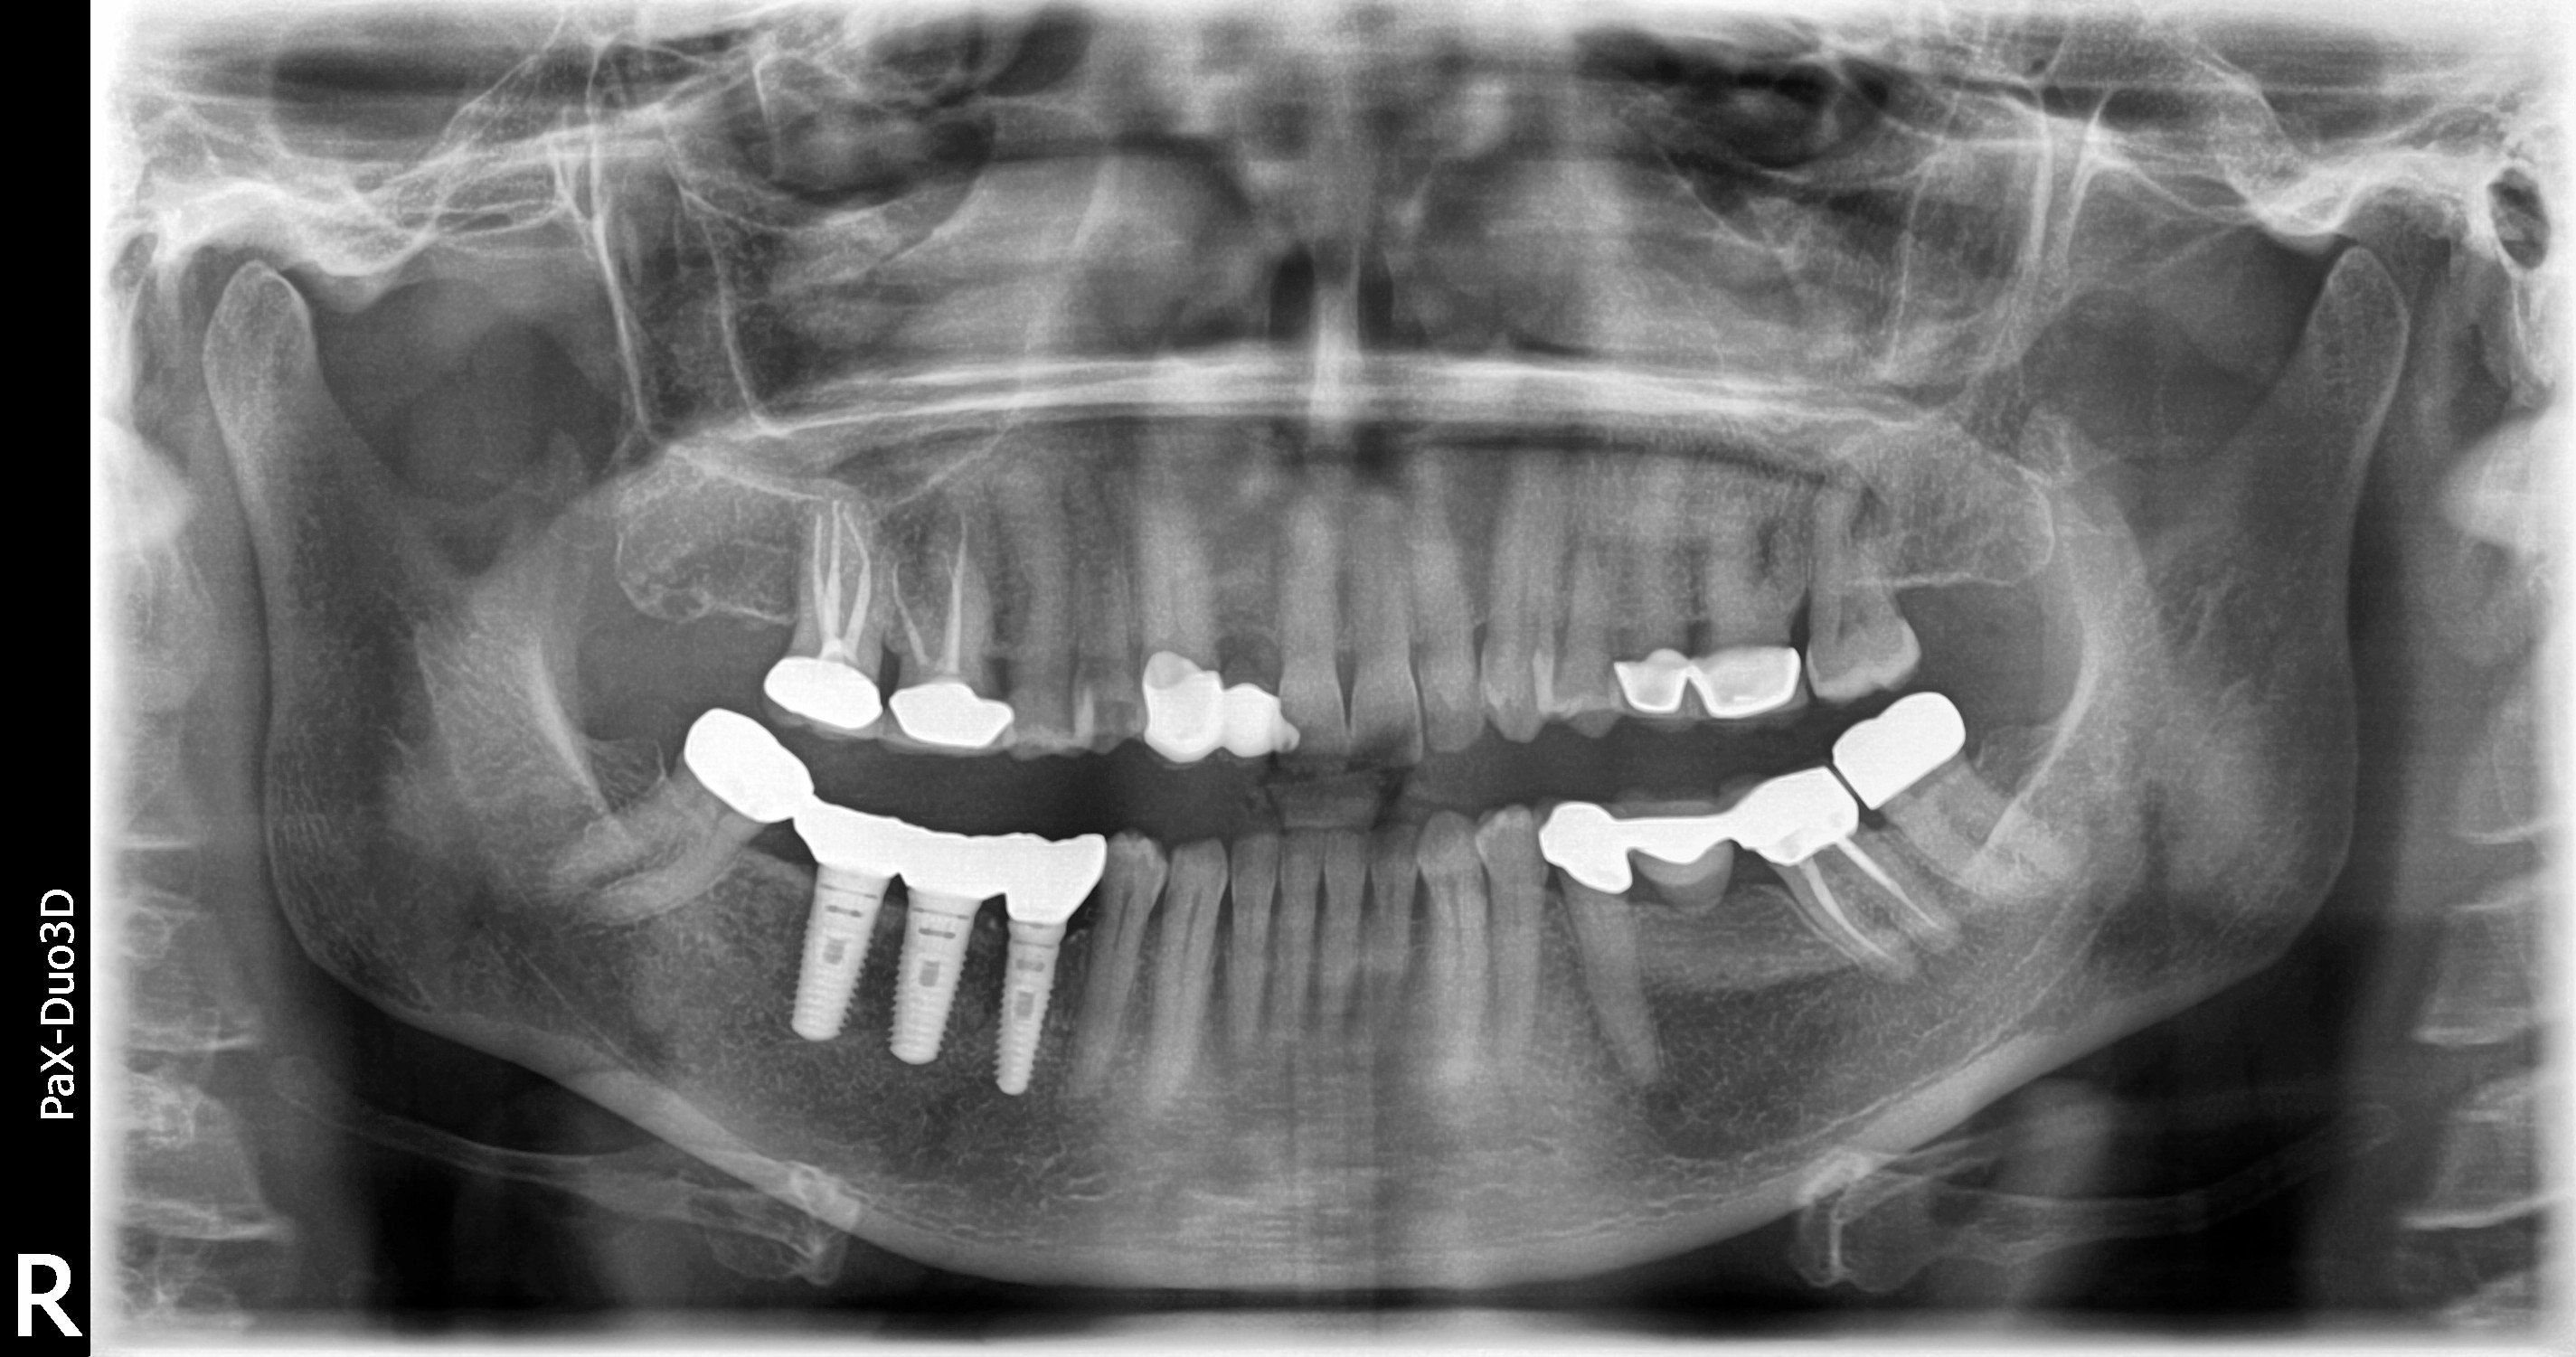canine: (1147, 831, 1244, 1141), (1475, 455, 1564, 780), (1414, 805, 1504, 1096)
incisor: (1334, 422, 1429, 783), (1271, 443, 1360, 782), (1421, 455, 1503, 780), (1346, 805, 1433, 1100), (1310, 819, 1382, 1071), (1269, 817, 1331, 1083), (1239, 831, 1268, 1071)
molar: (1784, 407, 1941, 715)
premolar: (1065, 451, 1169, 782), (1460, 776, 1555, 1132), (998, 470, 1101, 761), (1538, 475, 1639, 746), (1085, 807, 1162, 1131)
